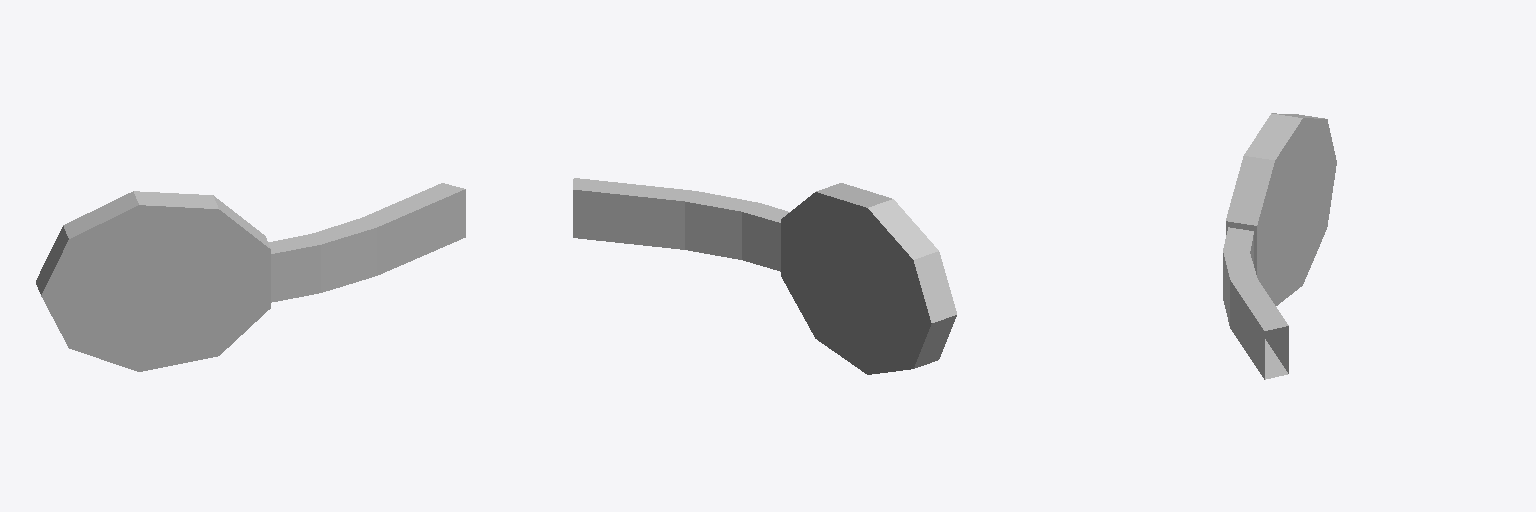
File: AltoSaxKeyUp14.obj
The picture shows the model from 3 angles: view 1: azimuth 30°, elevation 25°; view 2: azimuth 150°, elevation 25°; view 3: azimuth 270°, elevation 25°; orthographic projection.
Visible parts, largest first — view 1: Converted object 0(m1); view 2: Converted object 0(m1); view 3: Converted object 0(m1).
Boxes of the visible parts, x1=… form: Converted object 0(m1): x1=36, y1=183, x2=465, y2=371; Converted object 0(m1): x1=573, y1=178, x2=956, y2=374; Converted object 0(m1): x1=1223, y1=113, x2=1336, y2=379.
Size of the model in its own units: 2.09 by 0.8255 by 0.5106.